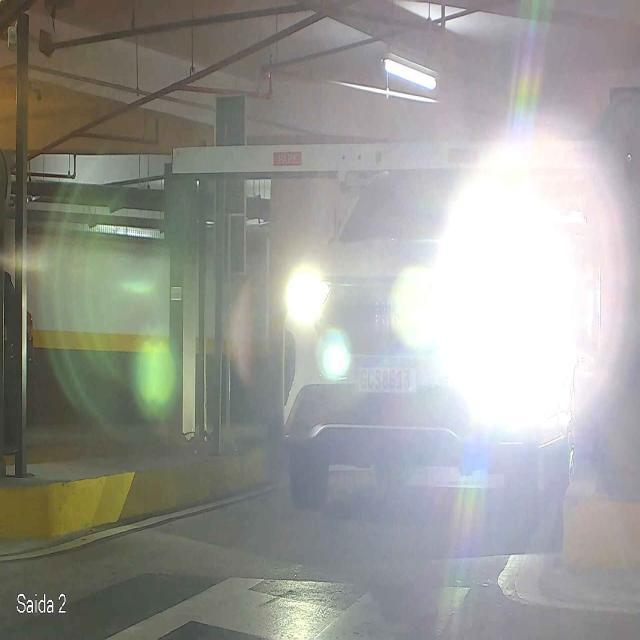mercosul_plate: (351, 357, 419, 394)
